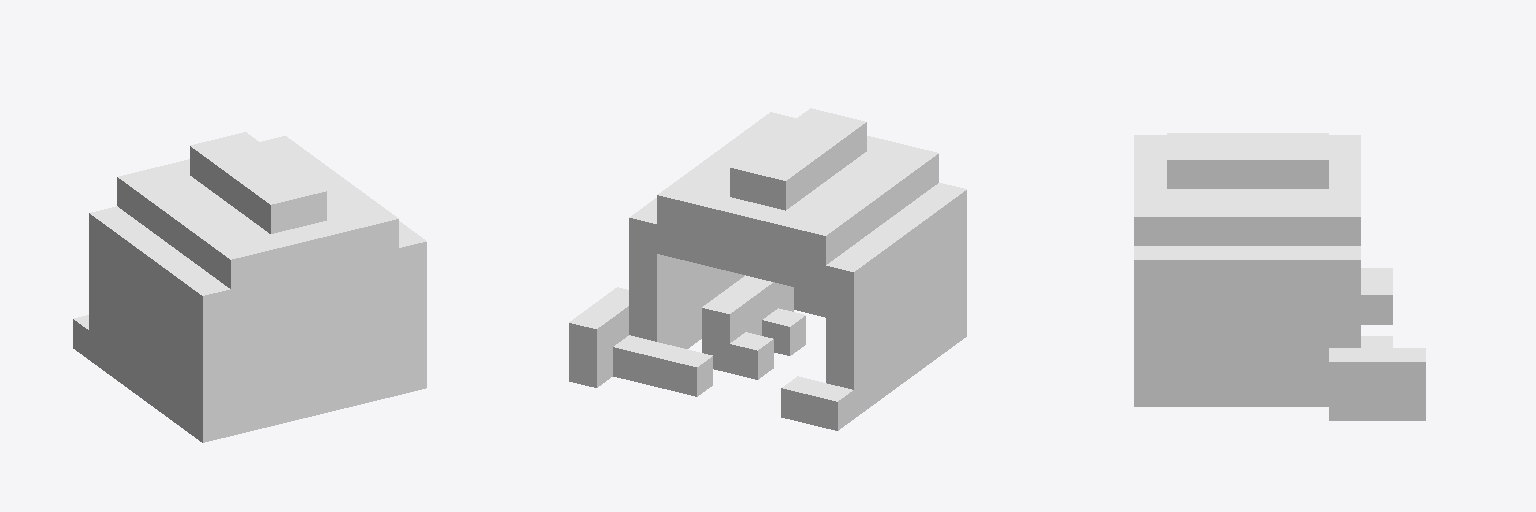
Rendered from sawmill_01.obj.
3 views of the same model, side by side, from view 1: azimuth 30°, elevation 25°; view 2: azimuth 150°, elevation 25°; view 3: azimuth 270°, elevation 25° (orthographic).
Visible parts, largest first — view 1: object 1; view 2: object 1; view 3: object 1.
Part boxes in pixels (x1,y1,x2,y2): object 1: (73,132,426,442); object 1: (569,108,966,430); object 1: (1134,133,1425,420).
Bounding box in the file's own units: 0.9 × 0.7 × 0.9.